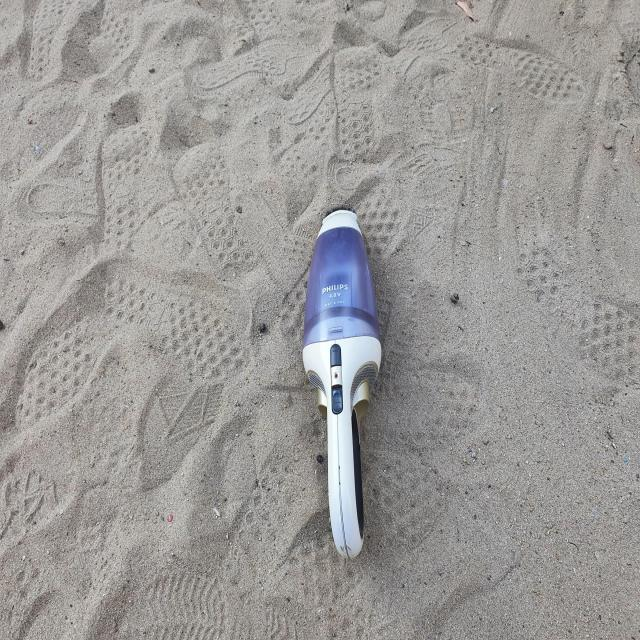refrigerator: (301, 206, 384, 560)
